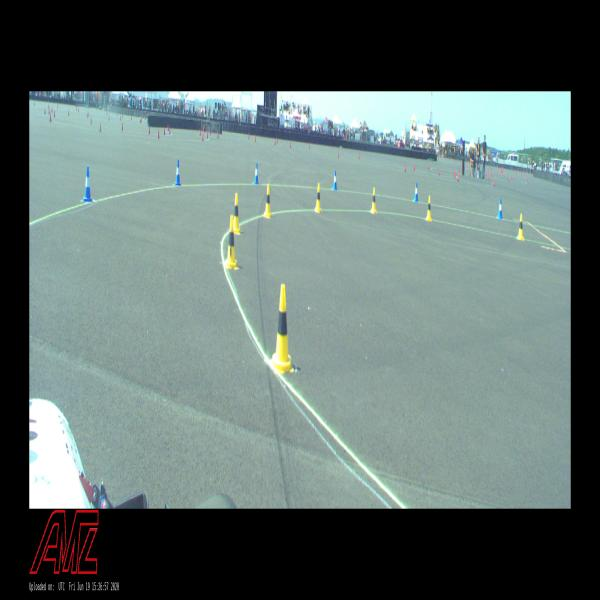blue_cone: (84, 166, 92, 202), (175, 160, 181, 185), (254, 163, 259, 185), (414, 183, 418, 202), (498, 199, 502, 218), (333, 171, 337, 190)
yellow_cone: (269, 284, 294, 373), (225, 215, 237, 268), (234, 194, 241, 233), (314, 183, 322, 212), (264, 185, 271, 217), (517, 214, 524, 239), (371, 188, 377, 212), (426, 196, 432, 220)
